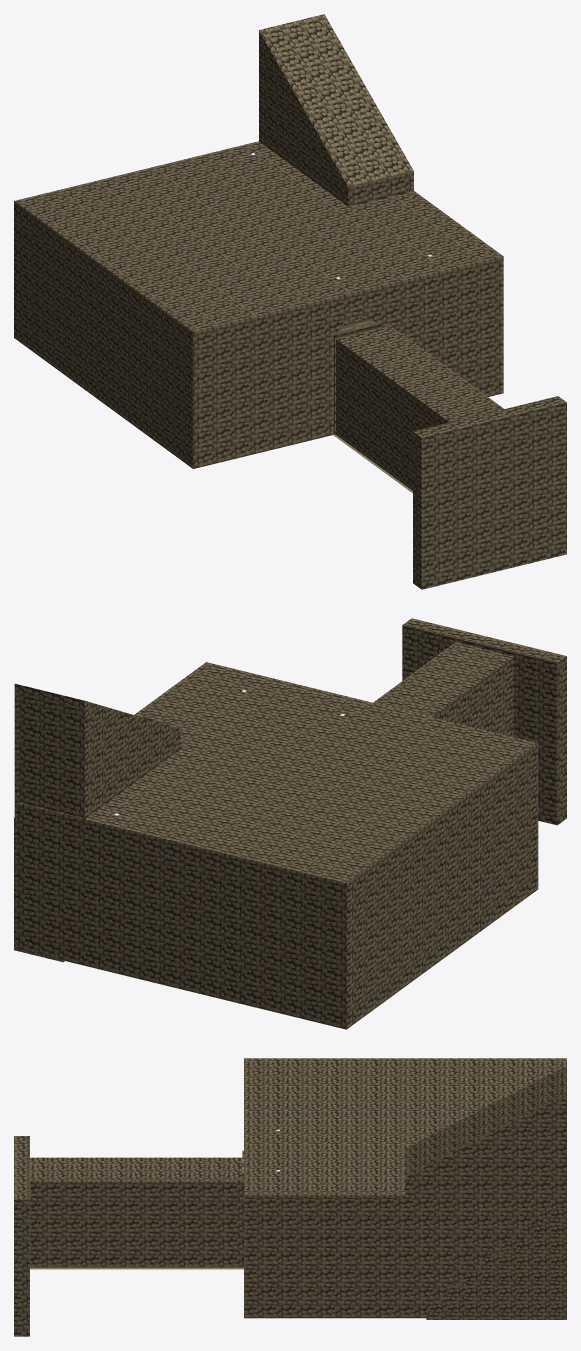
The model's file is basement.glb.
3 renders of one model, top to bottom at view 1: azimuth 30°, elevation 25°; view 2: azimuth 150°, elevation 25°; view 3: azimuth 270°, elevation 25°, orthographic. The views are drawn at different scales.
Visible parts, largest first — view 1: Walls-col, Clock01-col; view 2: Walls-col; view 3: Walls-col, Stairs-col, Floor-col.
Part boxes in pixels (x1,y1,x2,y2): Walls-col: (14,14,566,589); Clock01-col: (334,317,380,434); Walls-col: (14,618,566,1029); Walls-col: (14,1058,566,1336); Stairs-col: (426,1208,566,1319); Floor-col: (30,1267,425,1318).
Size of the model in its own units: 8.72 by 8.03 by 14.9.
Materials: 17 (13 with a texture image).
